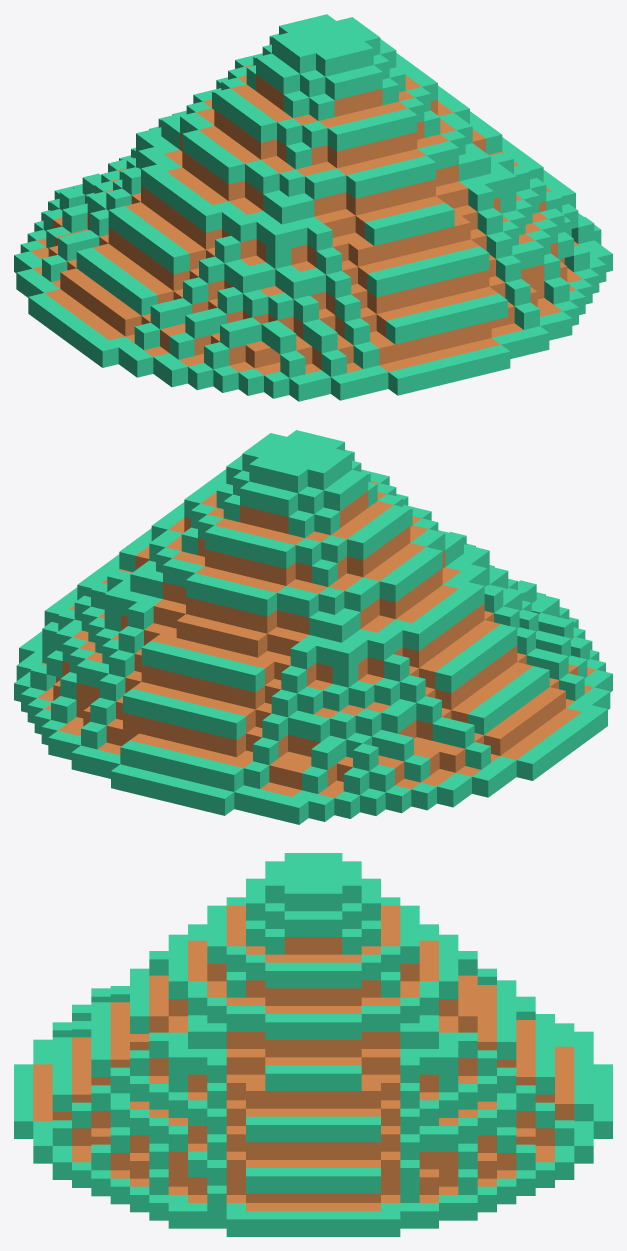
The model's file is AbelNid.glb.
The picture shows the model from 3 angles, top to bottom: view 1: azimuth 30°, elevation 25°; view 2: azimuth 150°, elevation 25°; view 3: azimuth 270°, elevation 25°; orthographic projection. The views are drawn at different scales.
Parts seen in each view (by area): view 1: AbelNid; view 2: AbelNid; view 3: AbelNid.
Part boxes in pixels (box(x1,y1,x2,y2)): AbelNid: box(14, 14, 612, 401); AbelNid: box(14, 430, 612, 824); AbelNid: box(14, 853, 612, 1236).
Size of the model in its own units: 31 by 14 by 31.
